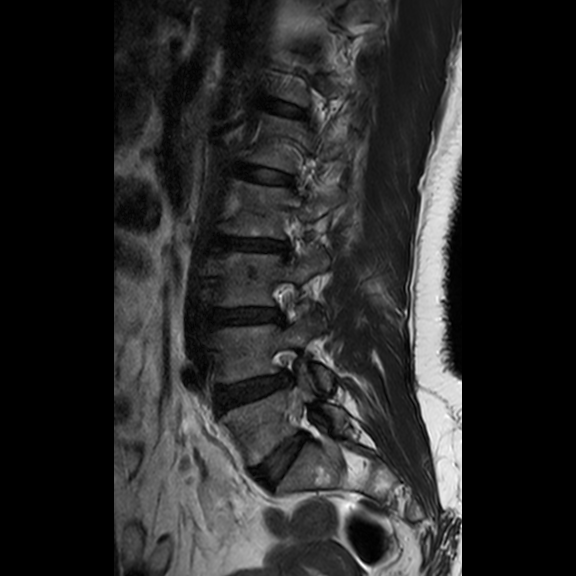RFS0: (263, 271, 305, 334)
RFS2: (266, 338, 308, 401)
